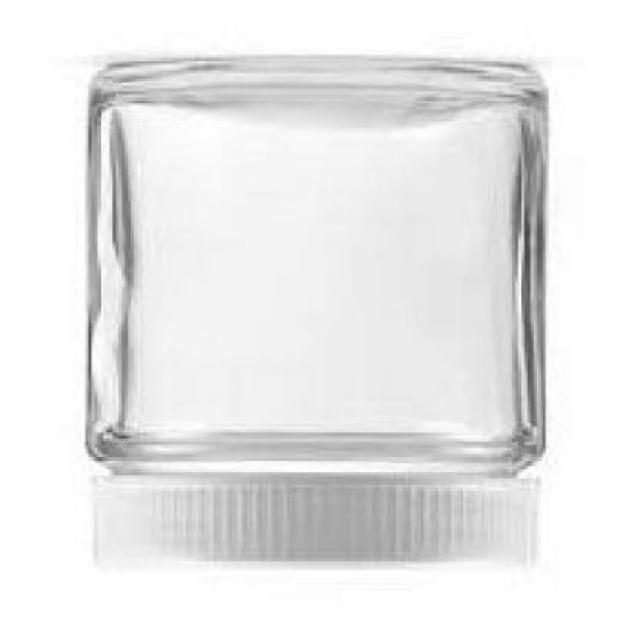GLASS: (86, 64, 546, 479)
PLASTIC: (85, 481, 533, 570)
